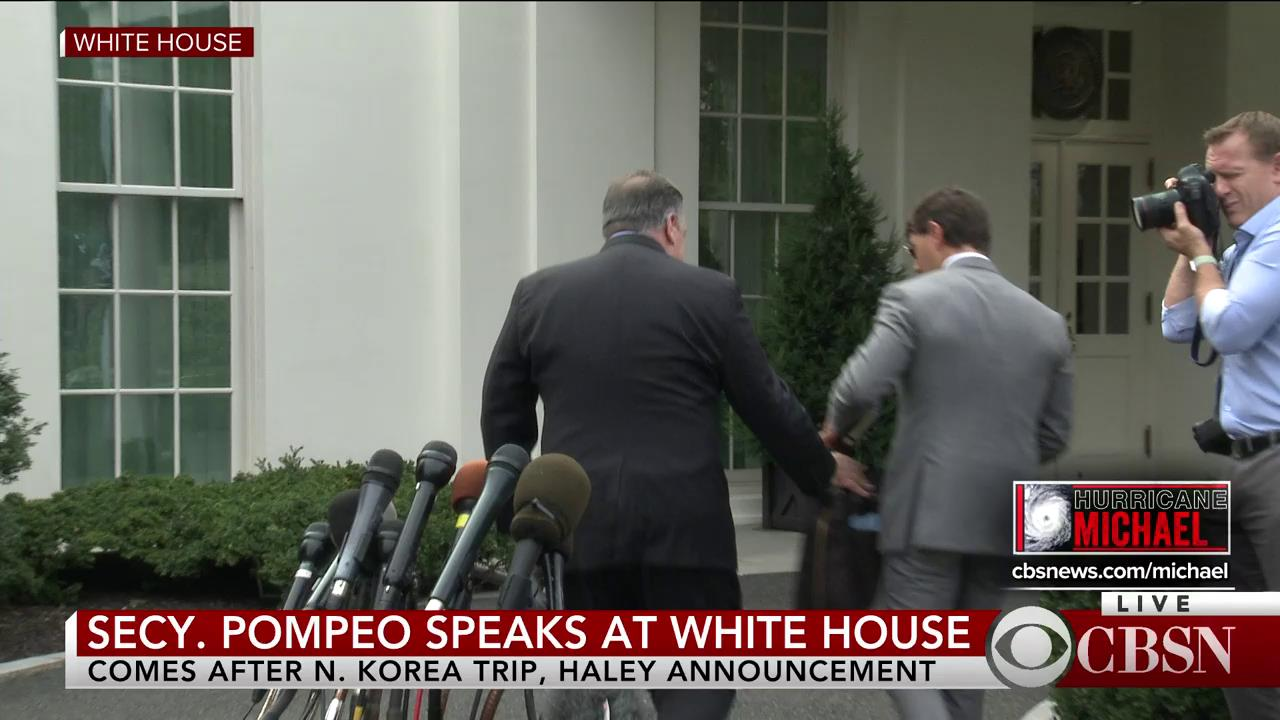CBSN: (1077, 625, 1237, 677)
COMES AFTER N. KOREA TRIP, HALEY ANNOUCEMENT: (85, 658, 938, 683)
HURRICANE: (1071, 486, 1229, 510)
LIVE: (1115, 590, 1192, 613)
MICHAEL: (1071, 508, 1208, 549)
SECY. POMPEO SPEAKS AT WHITE HOUSE: (85, 613, 977, 652)
WHITE HOUSE: (71, 28, 242, 53)
cbsnews.com/michael: (1010, 561, 1229, 580)
